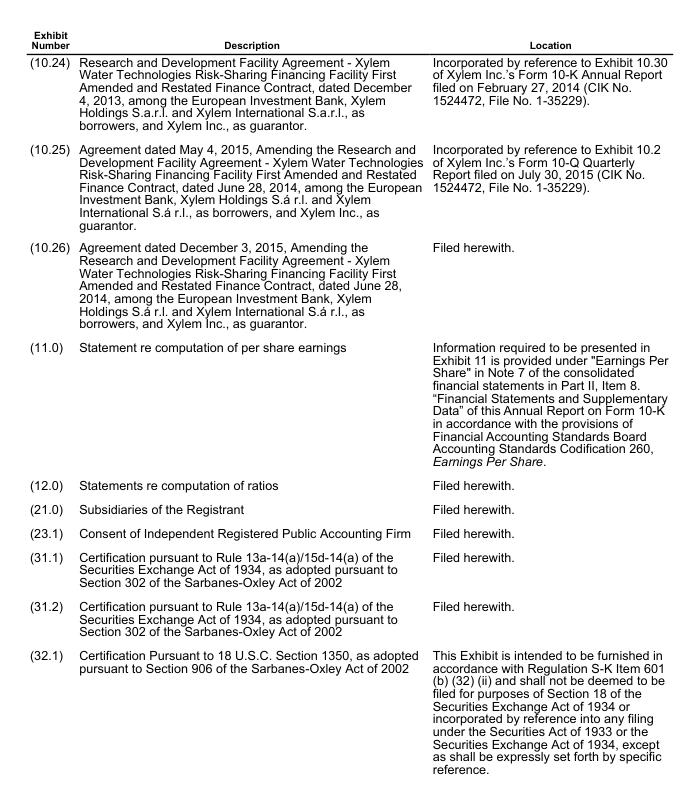table: (28, 28, 667, 775)
table column: (73, 28, 427, 775), (427, 28, 667, 775), (28, 28, 73, 775)
table column header: (28, 28, 667, 52)
table row: (28, 334, 667, 472), (28, 642, 667, 775), (28, 136, 667, 235), (28, 235, 667, 334), (28, 52, 667, 136), (28, 544, 667, 593), (28, 593, 667, 642), (28, 28, 667, 52), (28, 472, 667, 496), (28, 496, 667, 520), (28, 520, 667, 544)
